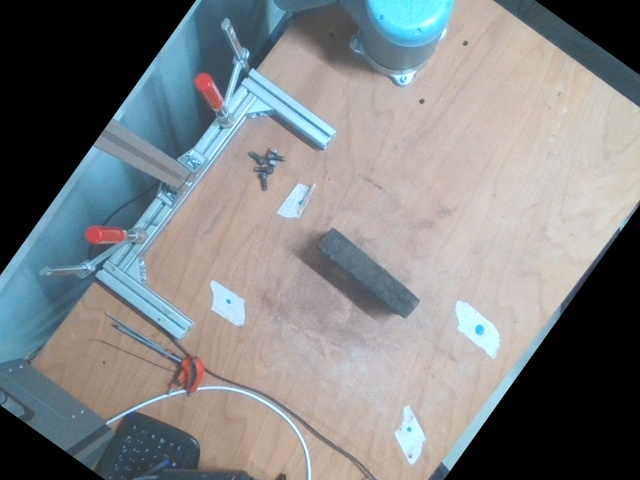brick-side: (317, 227, 419, 319)
